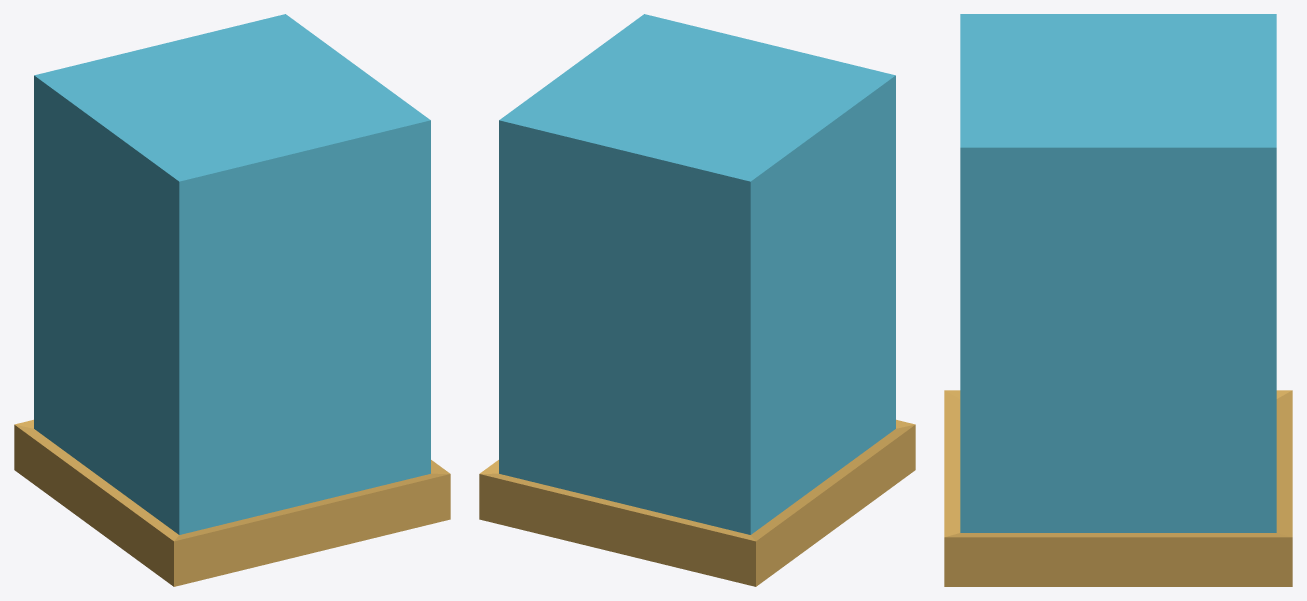
File: SmallTH_Bottom.fbx
The picture shows the model from 3 angles, left to right: view 1: azimuth 30°, elevation 25°; view 2: azimuth 150°, elevation 25°; view 3: azimuth 270°, elevation 25°; orthographic projection. The views are drawn at different scales.
Parts seen in each view (by area): view 1: SmallTH_Bottom; view 2: SmallTH_Bottom; view 3: SmallTH_Bottom.
Part boxes in pixels (x1,y1,x2,y2): SmallTH_Bottom: (14,14,450,586); SmallTH_Bottom: (479,14,915,586); SmallTH_Bottom: (944,14,1292,586).
Bounding box in the file's own units: 2.2 × 3.02 × 2.2.
